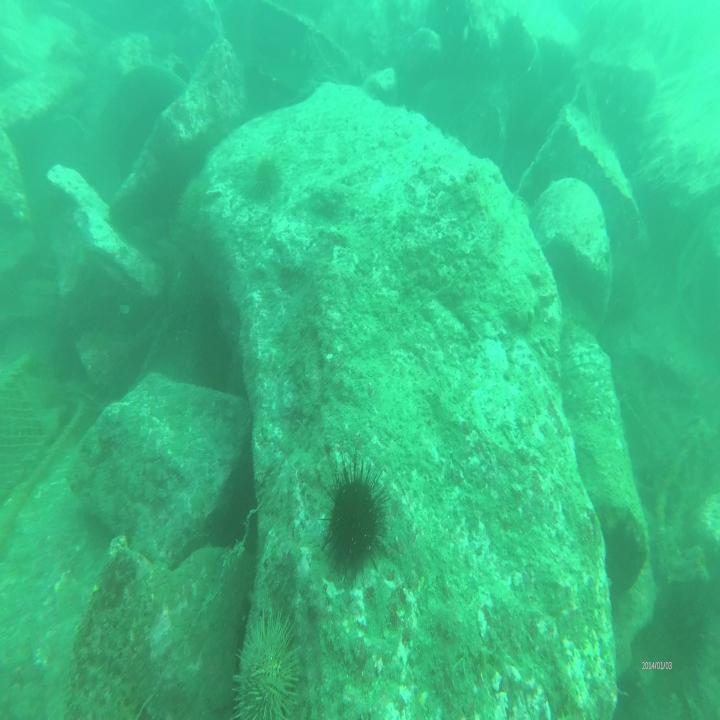echinus: (320, 447, 394, 583), (231, 608, 307, 720), (253, 155, 286, 200), (178, 175, 204, 231)
